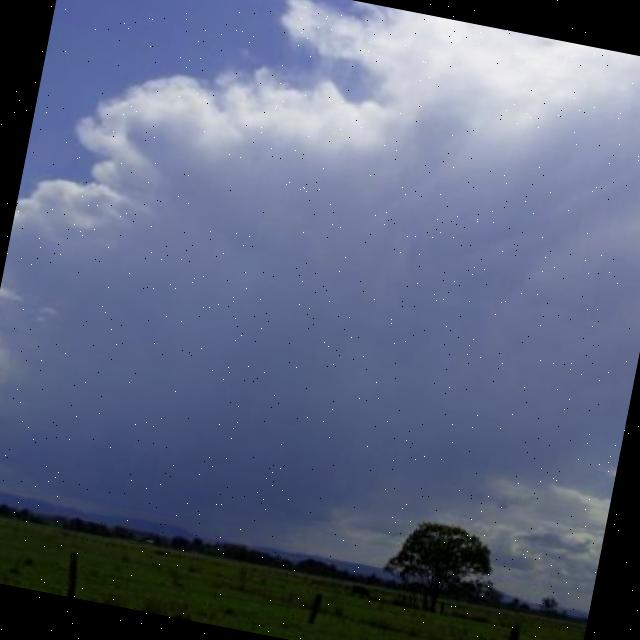Cb: (1, 1, 640, 448)
